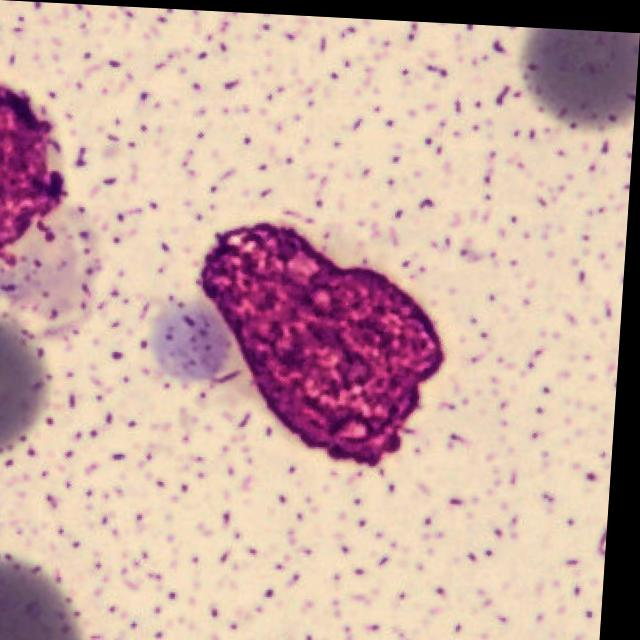Restos celulares: (202, 220, 450, 463)
